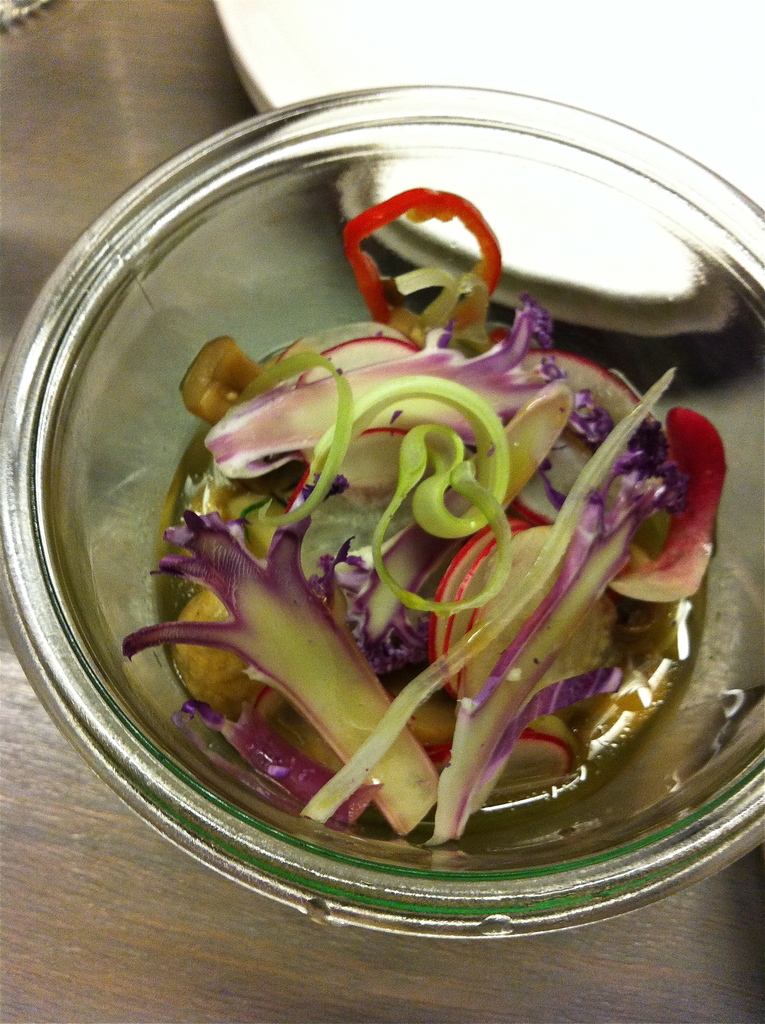salad: (88, 163, 750, 924)
